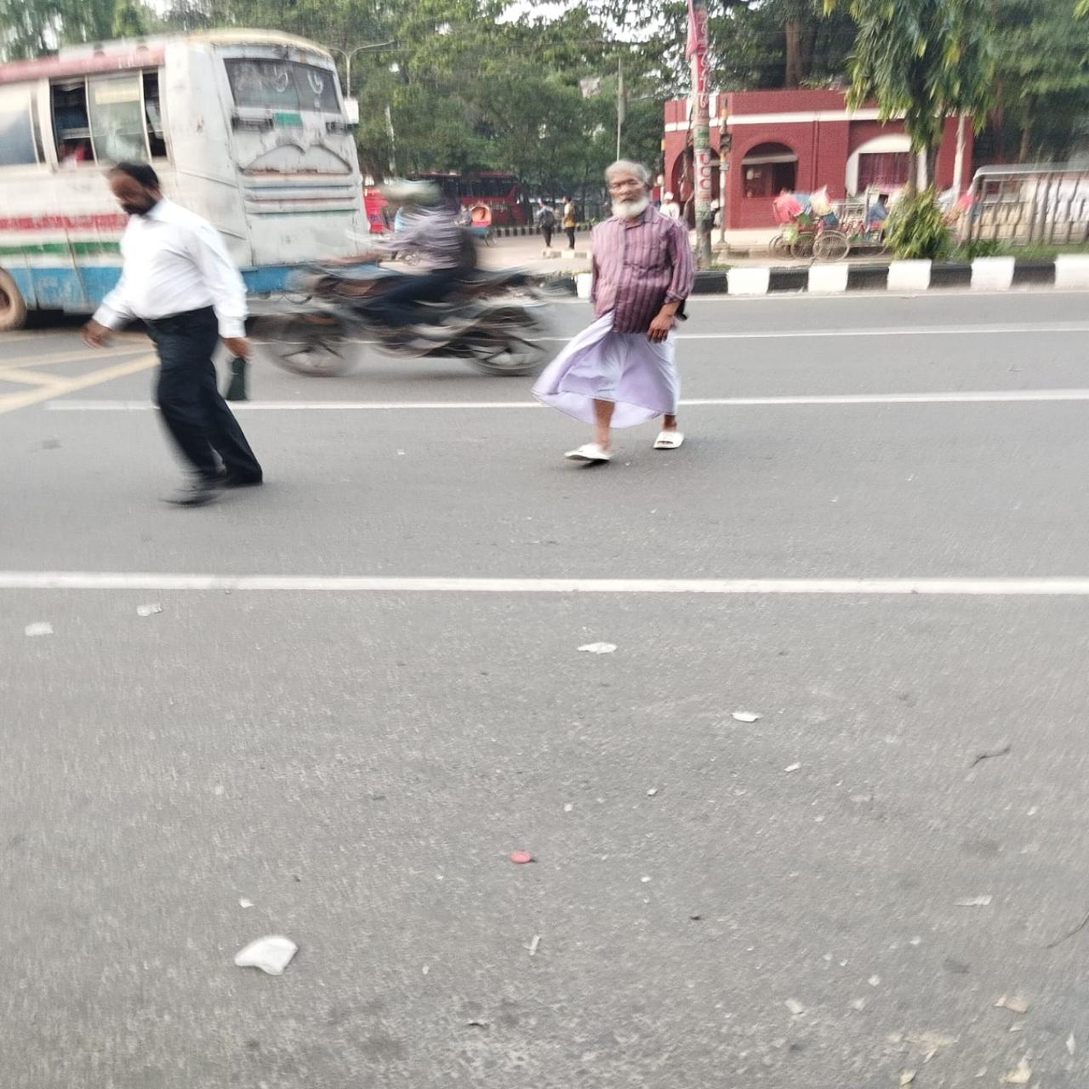person: (77, 165, 273, 506), (531, 157, 701, 470), (556, 194, 586, 247), (535, 195, 557, 248)
